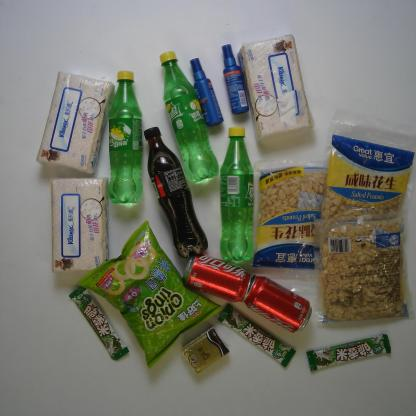Chocolate: (216, 304, 298, 366), (69, 286, 130, 361), (306, 334, 392, 372)
Dried Fruit: (313, 214, 415, 325), (321, 107, 416, 223), (251, 157, 330, 282)
Drink: (142, 127, 209, 258), (159, 51, 220, 183), (106, 70, 145, 206), (217, 127, 256, 262), (243, 274, 313, 333), (184, 252, 252, 302)
Personal Hygiene: (190, 58, 224, 126), (219, 43, 250, 115)
Puffed Food: (76, 220, 222, 369)
Tissue: (36, 70, 116, 175), (237, 34, 315, 140), (50, 177, 110, 273), (180, 328, 230, 374)
